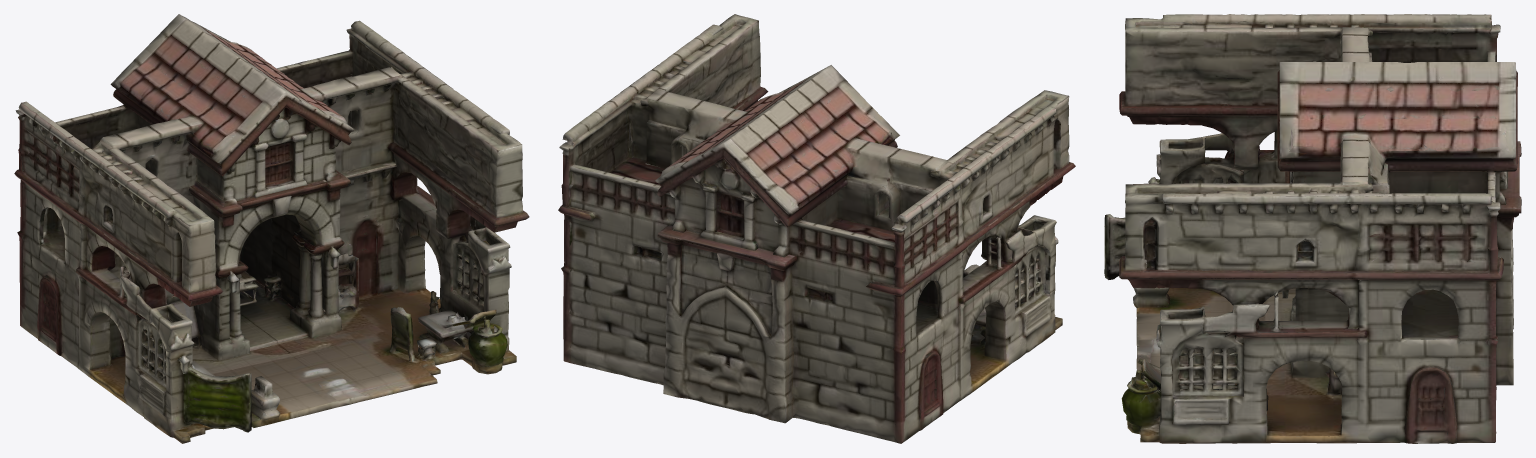
File: Dwarven Building #31_final.glb
The picture shows the model from 3 angles, left to right: view 1: azimuth 30°, elevation 25°; view 2: azimuth 150°, elevation 25°; view 3: azimuth 270°, elevation 25°; orthographic projection. The views are drawn at different scales.
Bounding box in the file's own units: 1.91 × 1.41 × 1.83.
1 material, 1 textured.
